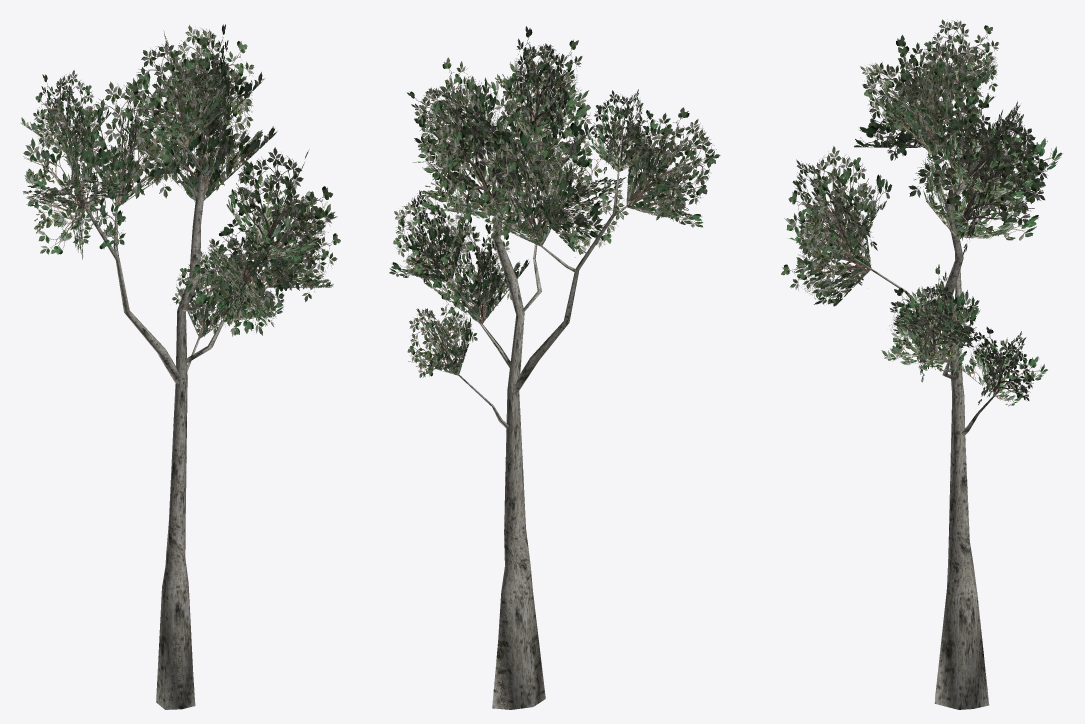
File: decd_whitebirchtreeleaves_a1_l0.fbx
3 views of the same model, side by side, from view 1: azimuth 30°, elevation 25°; view 2: azimuth 150°, elevation 25°; view 3: azimuth 270°, elevation 25° (orthographic). The views are drawn at different scales.
Visible parts, largest first — view 1: mesh_node; view 2: mesh_node; view 3: mesh_node.
Part boxes in pixels (x1,y1,x2,y2): mesh_node: (21, 24, 340, 709); mesh_node: (389, 26, 720, 709); mesh_node: (781, 19, 1062, 709).
Size of the model in its own units: 7.87 by 15.27 by 6.49.
